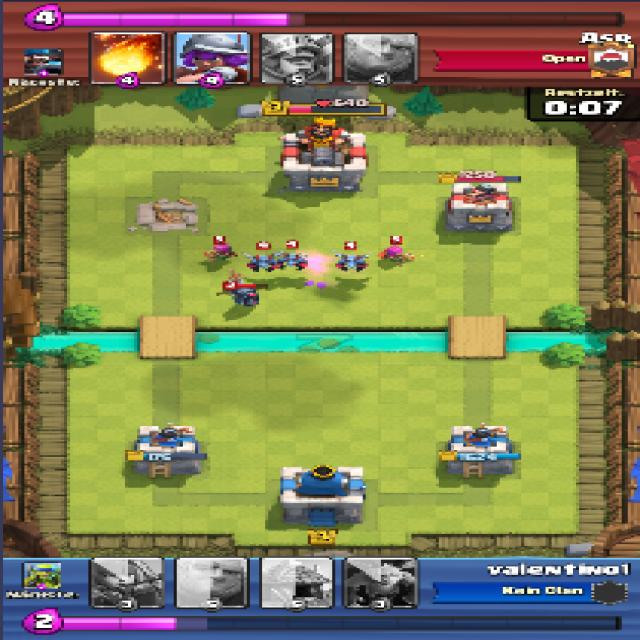Enemy-Archer: (380, 246, 416, 265), (206, 244, 236, 262)
Enemy-MiniPEKKA: (222, 282, 262, 306)
Enemy-Minion: (333, 254, 368, 270), (279, 251, 307, 269), (248, 255, 278, 271)
